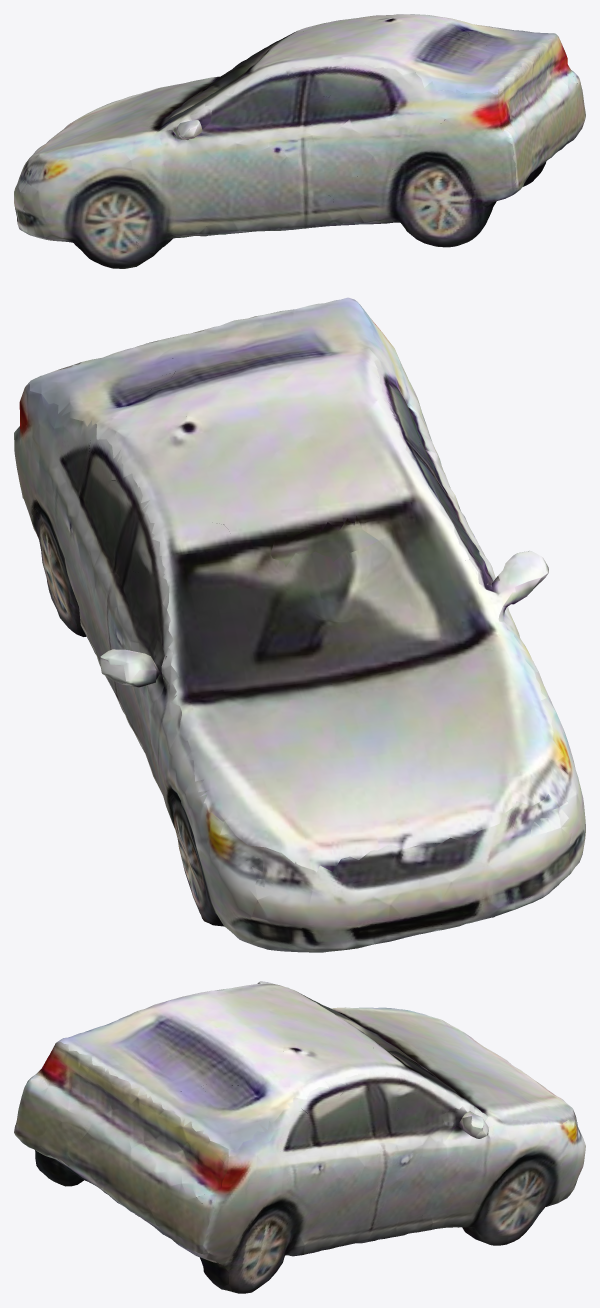
File: a-car.glb
3 views of the same model, one above another, from view 1: azimuth 30°, elevation 25°; view 2: azimuth 150°, elevation 25°; view 3: azimuth 270°, elevation 25° (orthographic). The views are drawn at different scales.
Visible parts, largest first — view 1: world; view 2: world; view 3: world.
Boxes of the visible parts, bbox=[...] form: world: bbox=[14, 14, 585, 268]; world: bbox=[14, 297, 585, 952]; world: bbox=[14, 981, 585, 1293].
Size of the model in its own units: 1.02 by 0.5103 by 0.9806.
1 material, 1 textured.
